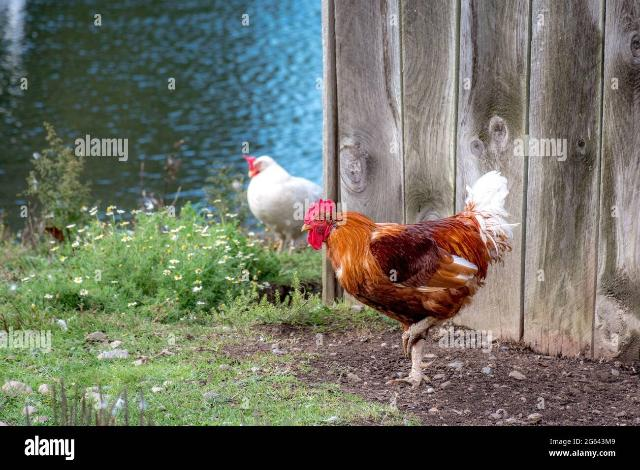Chicken: (302, 170, 522, 393), (241, 150, 326, 262)
